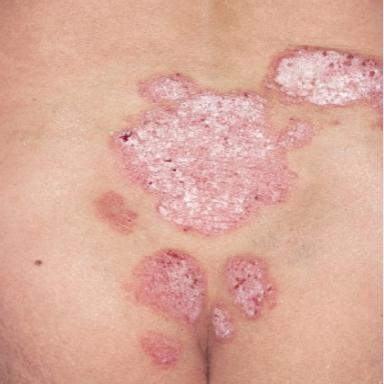Psoriasis: (111, 73, 313, 235), (265, 47, 382, 107), (135, 250, 206, 324), (226, 256, 276, 318), (142, 334, 181, 365), (212, 305, 233, 339)
